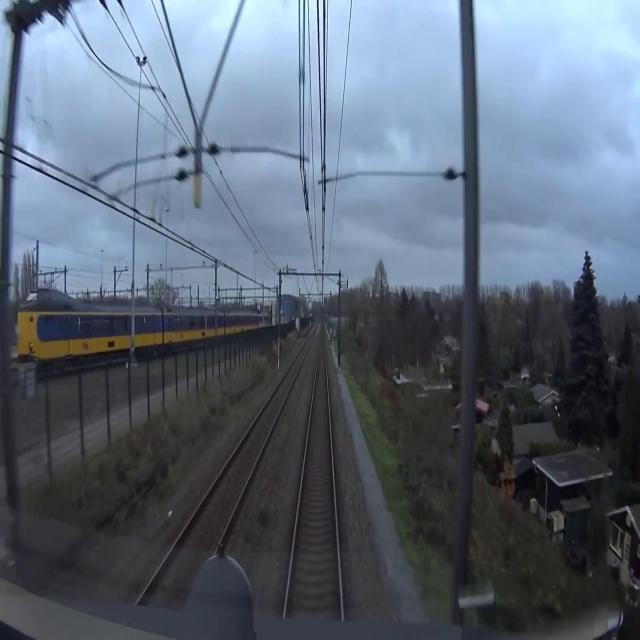rail-track: (115, 337, 311, 639), (285, 329, 341, 639)
